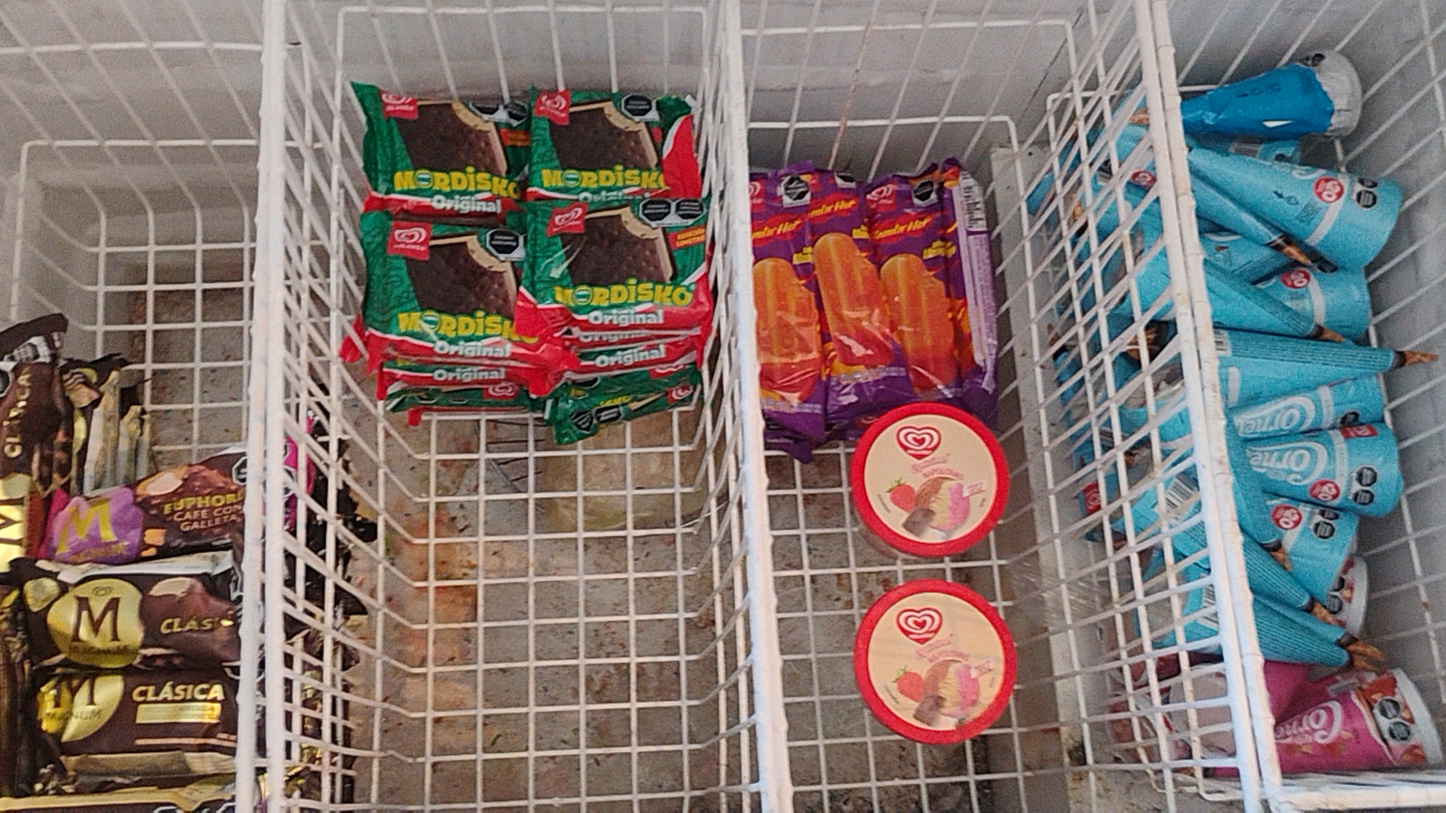rejilla: (1140, 3, 1260, 812), (1158, 9, 1280, 793), (730, 10, 787, 811), (241, 7, 274, 810), (272, 8, 284, 812)
